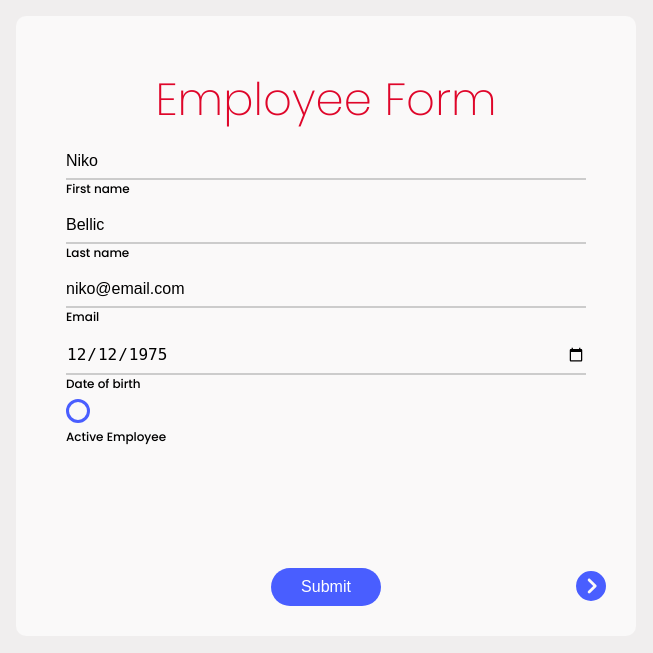
Form loads with all user data when there are props › If skills and levels passed as prop render
This screenshot has width=653, height=653.
Click the button named "next".
click(591, 587)  # box [576, 570, 606, 604]
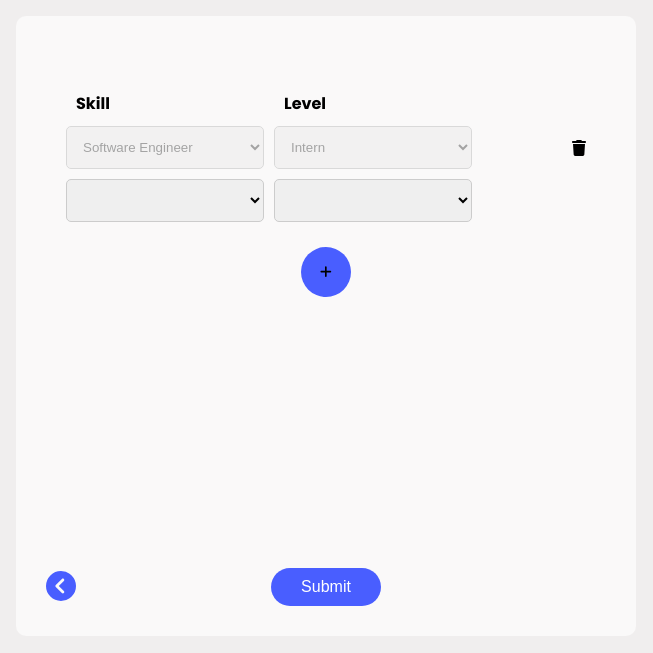
Result: the dropdown with test id "skill-disabled" shows "Software Engineer" at [66, 126, 264, 169]
Result: the dropdown with test id "level-disabled" shows "Intern" at [274, 126, 472, 169]
